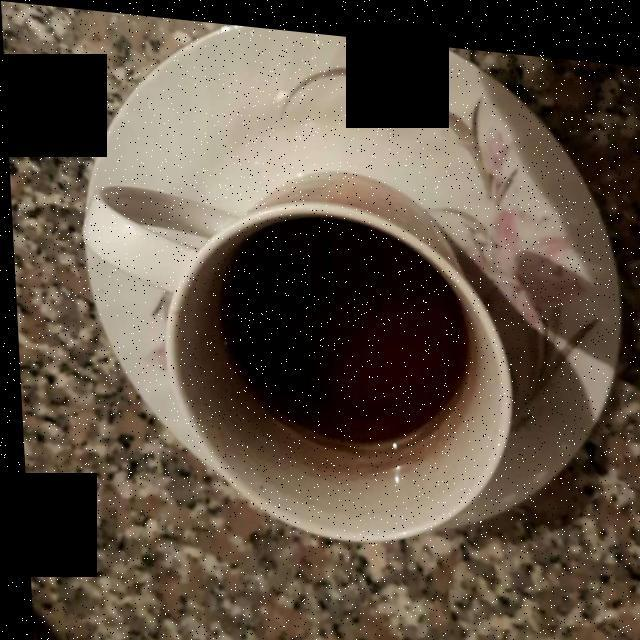tea: (209, 213, 469, 449)
